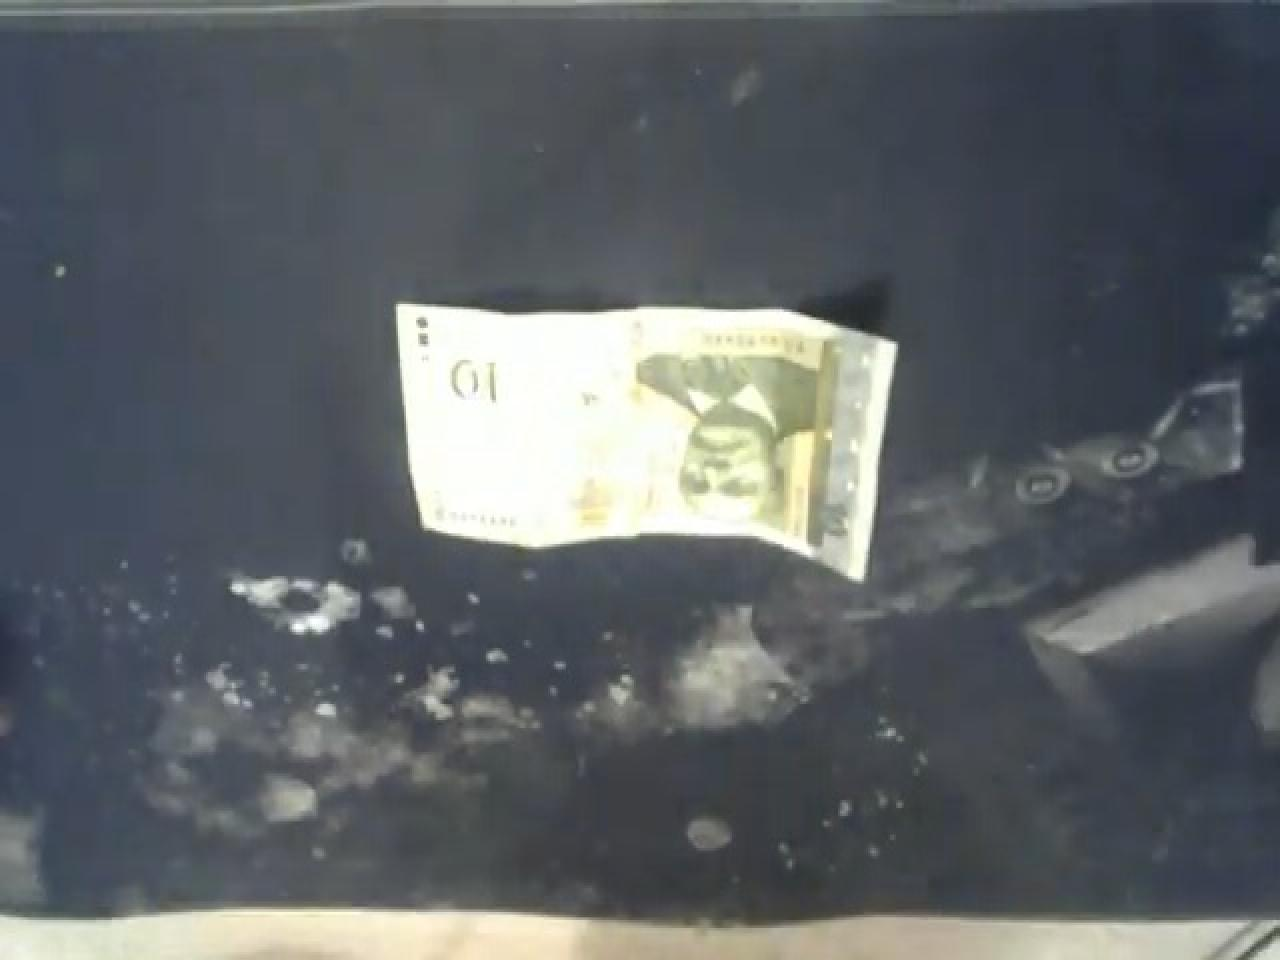10leva: (392, 296, 900, 579)
